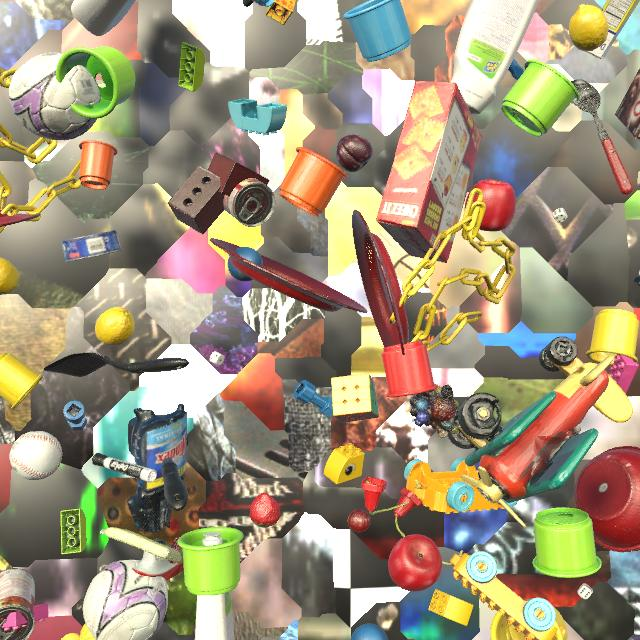ycb_003_cracker_box: (376, 81, 482, 263)
ycb_004_sugar_box: (585, 0, 640, 59)
ycb_005_tomato_soup_can: (223, 178, 275, 227), (0, 568, 35, 640)
ycb_007_tuna_fish_can: (61, 230, 122, 262)
ycb_008_pudding_box: (615, 68, 640, 140)
ycb_012_strawberry: (250, 492, 281, 528)
ycb_013_apple: (388, 534, 442, 591), (465, 179, 516, 231)
ycb_014_lemon: (569, 4, 608, 51), (95, 307, 135, 346), (0, 257, 20, 295), (80, 623, 95, 640)
ycb_018_plum: (336, 135, 373, 172)
